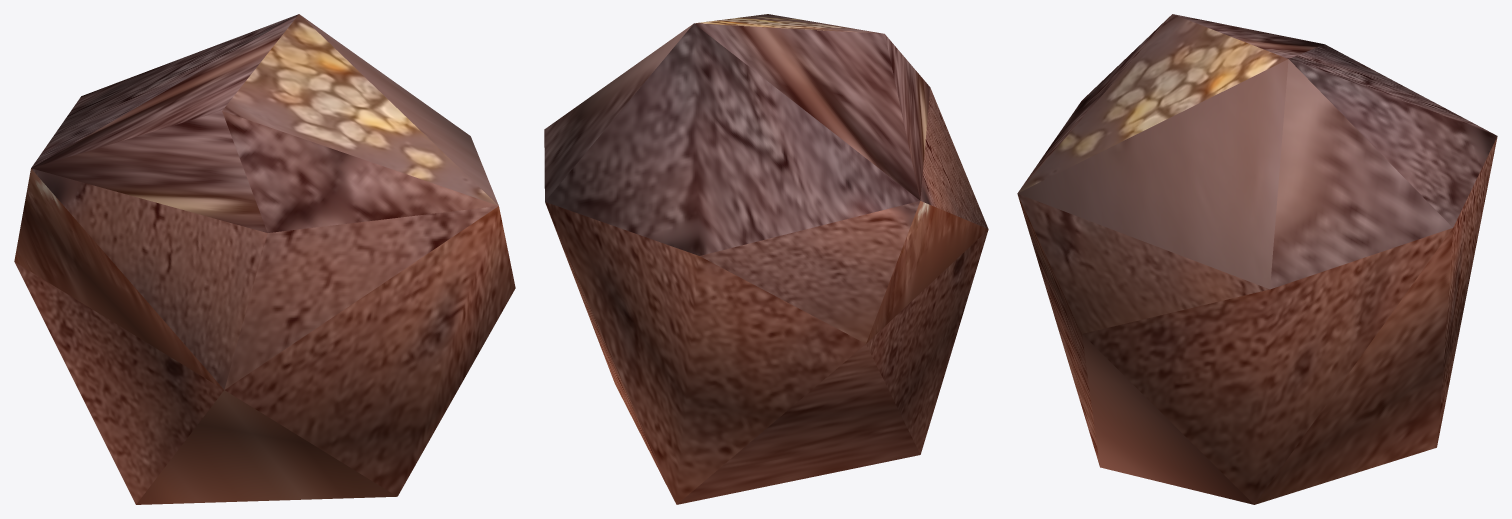
File: muffin_26.obj
3 views of the same model, side by side, from view 1: azimuth 30°, elevation 25°; view 2: azimuth 150°, elevation 25°; view 3: azimuth 270°, elevation 25° (orthographic). The views are drawn at different scales.
Bounding box in the file's own units: 13.43 × 13.17 × 13.77.
1 material, 1 textured.
